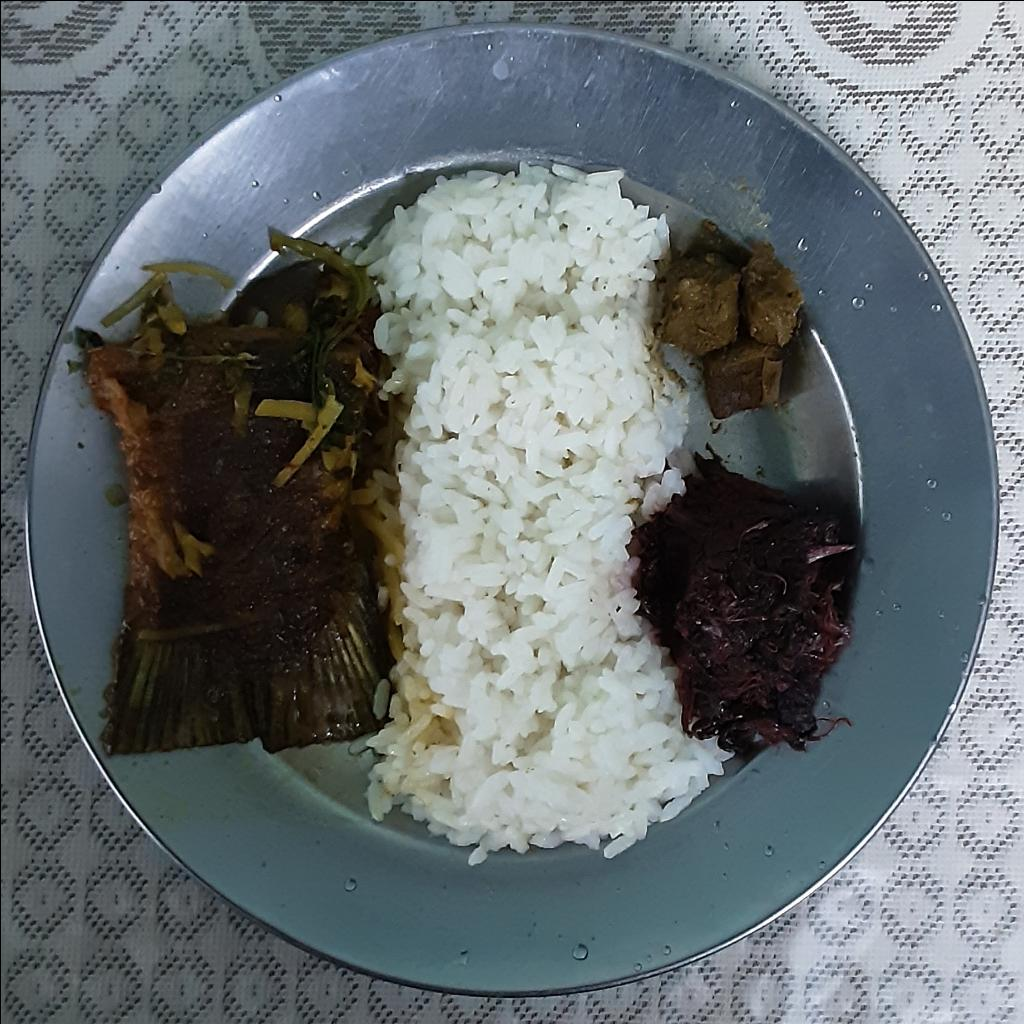beef: (658, 221, 804, 415)
fish: (73, 219, 397, 752)
lal-shak: (629, 450, 857, 747)
rice: (340, 160, 728, 871)
